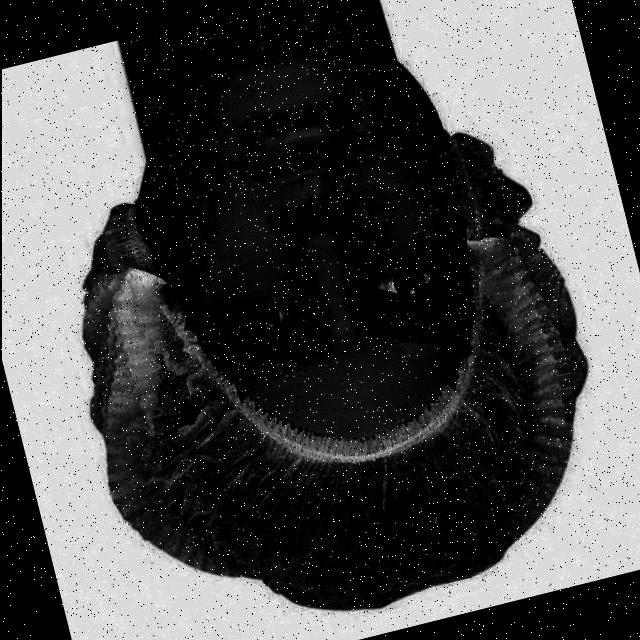gloves: (64, 346, 566, 638)
no_hairnet: (153, 51, 438, 291)
